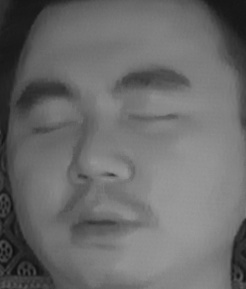blink: (125, 100, 184, 134), (31, 111, 78, 142)
mouth: (58, 192, 149, 253)
